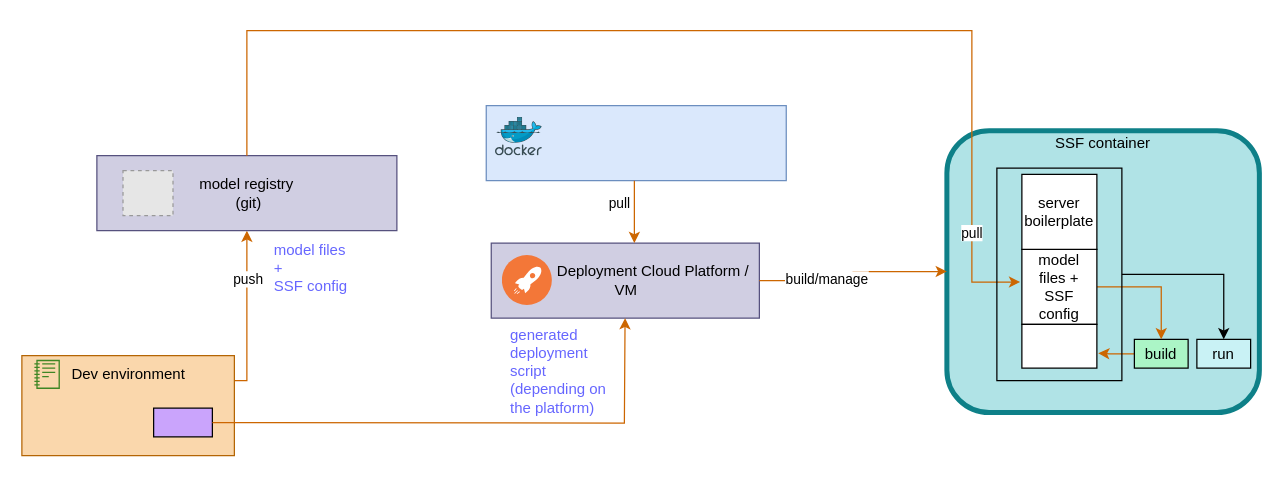
The diagram is 1284 pixels wide and 490 high, and some of its shapes have lost their labels. Grey dashed boxes stand in for pictures. The shapes that lost their labels are listed below. From the top down, each one's box as (x1, y1, x2, y2) in pixels, then its label:
(485, 104, 786, 181): SSF Image (public)
(1021, 323, 1097, 368): custom endpoint
(152, 407, 212, 437): deploy
